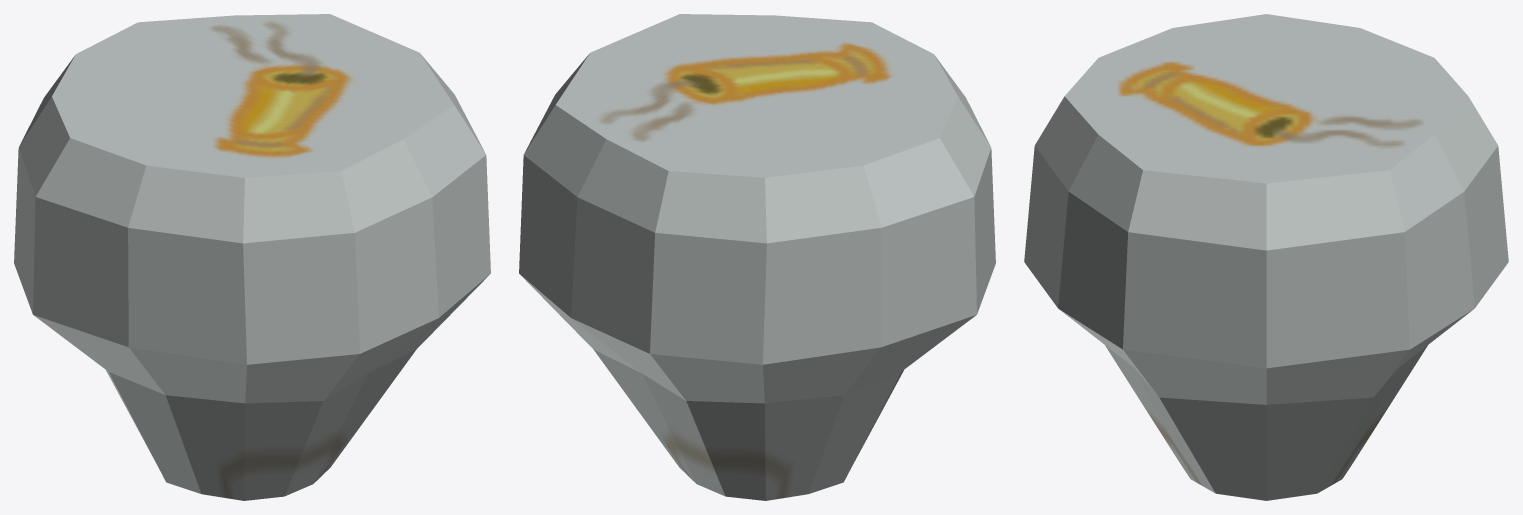
File: buttonCasing.glb
3 renders of one model, left to right at view 1: azimuth 30°, elevation 25°; view 2: azimuth 150°, elevation 25°; view 3: azimuth 270°, elevation 25°, orthographic.
Parts seen in each view (by area): view 1: buttonCone.001; view 2: buttonCone.001; view 3: buttonCone.001.
Boxes of the visible parts, x1,y1,x2,y2 form: buttonCone.001: (14,14,490,500); buttonCone.001: (519,14,995,500); buttonCone.001: (1024,14,1508,500).
Size of the model in its own units: 0.4606 by 0.3815 by 0.4582.
1 material, 1 textured.
